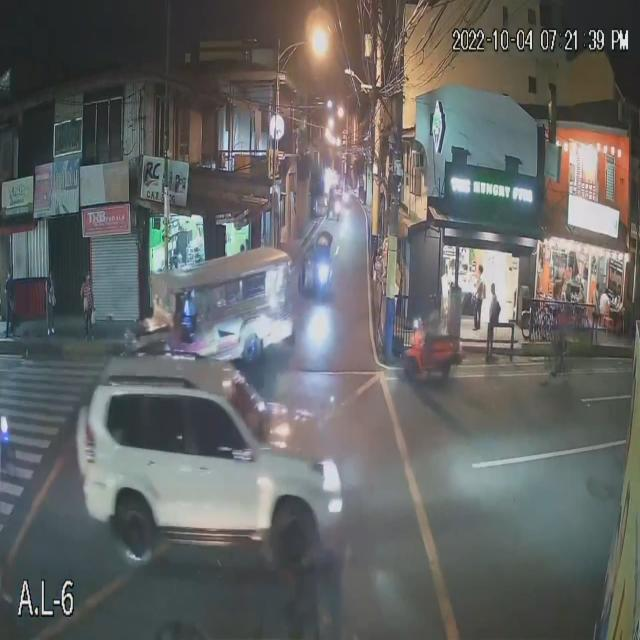Full-Faced: (429, 289, 441, 310)
